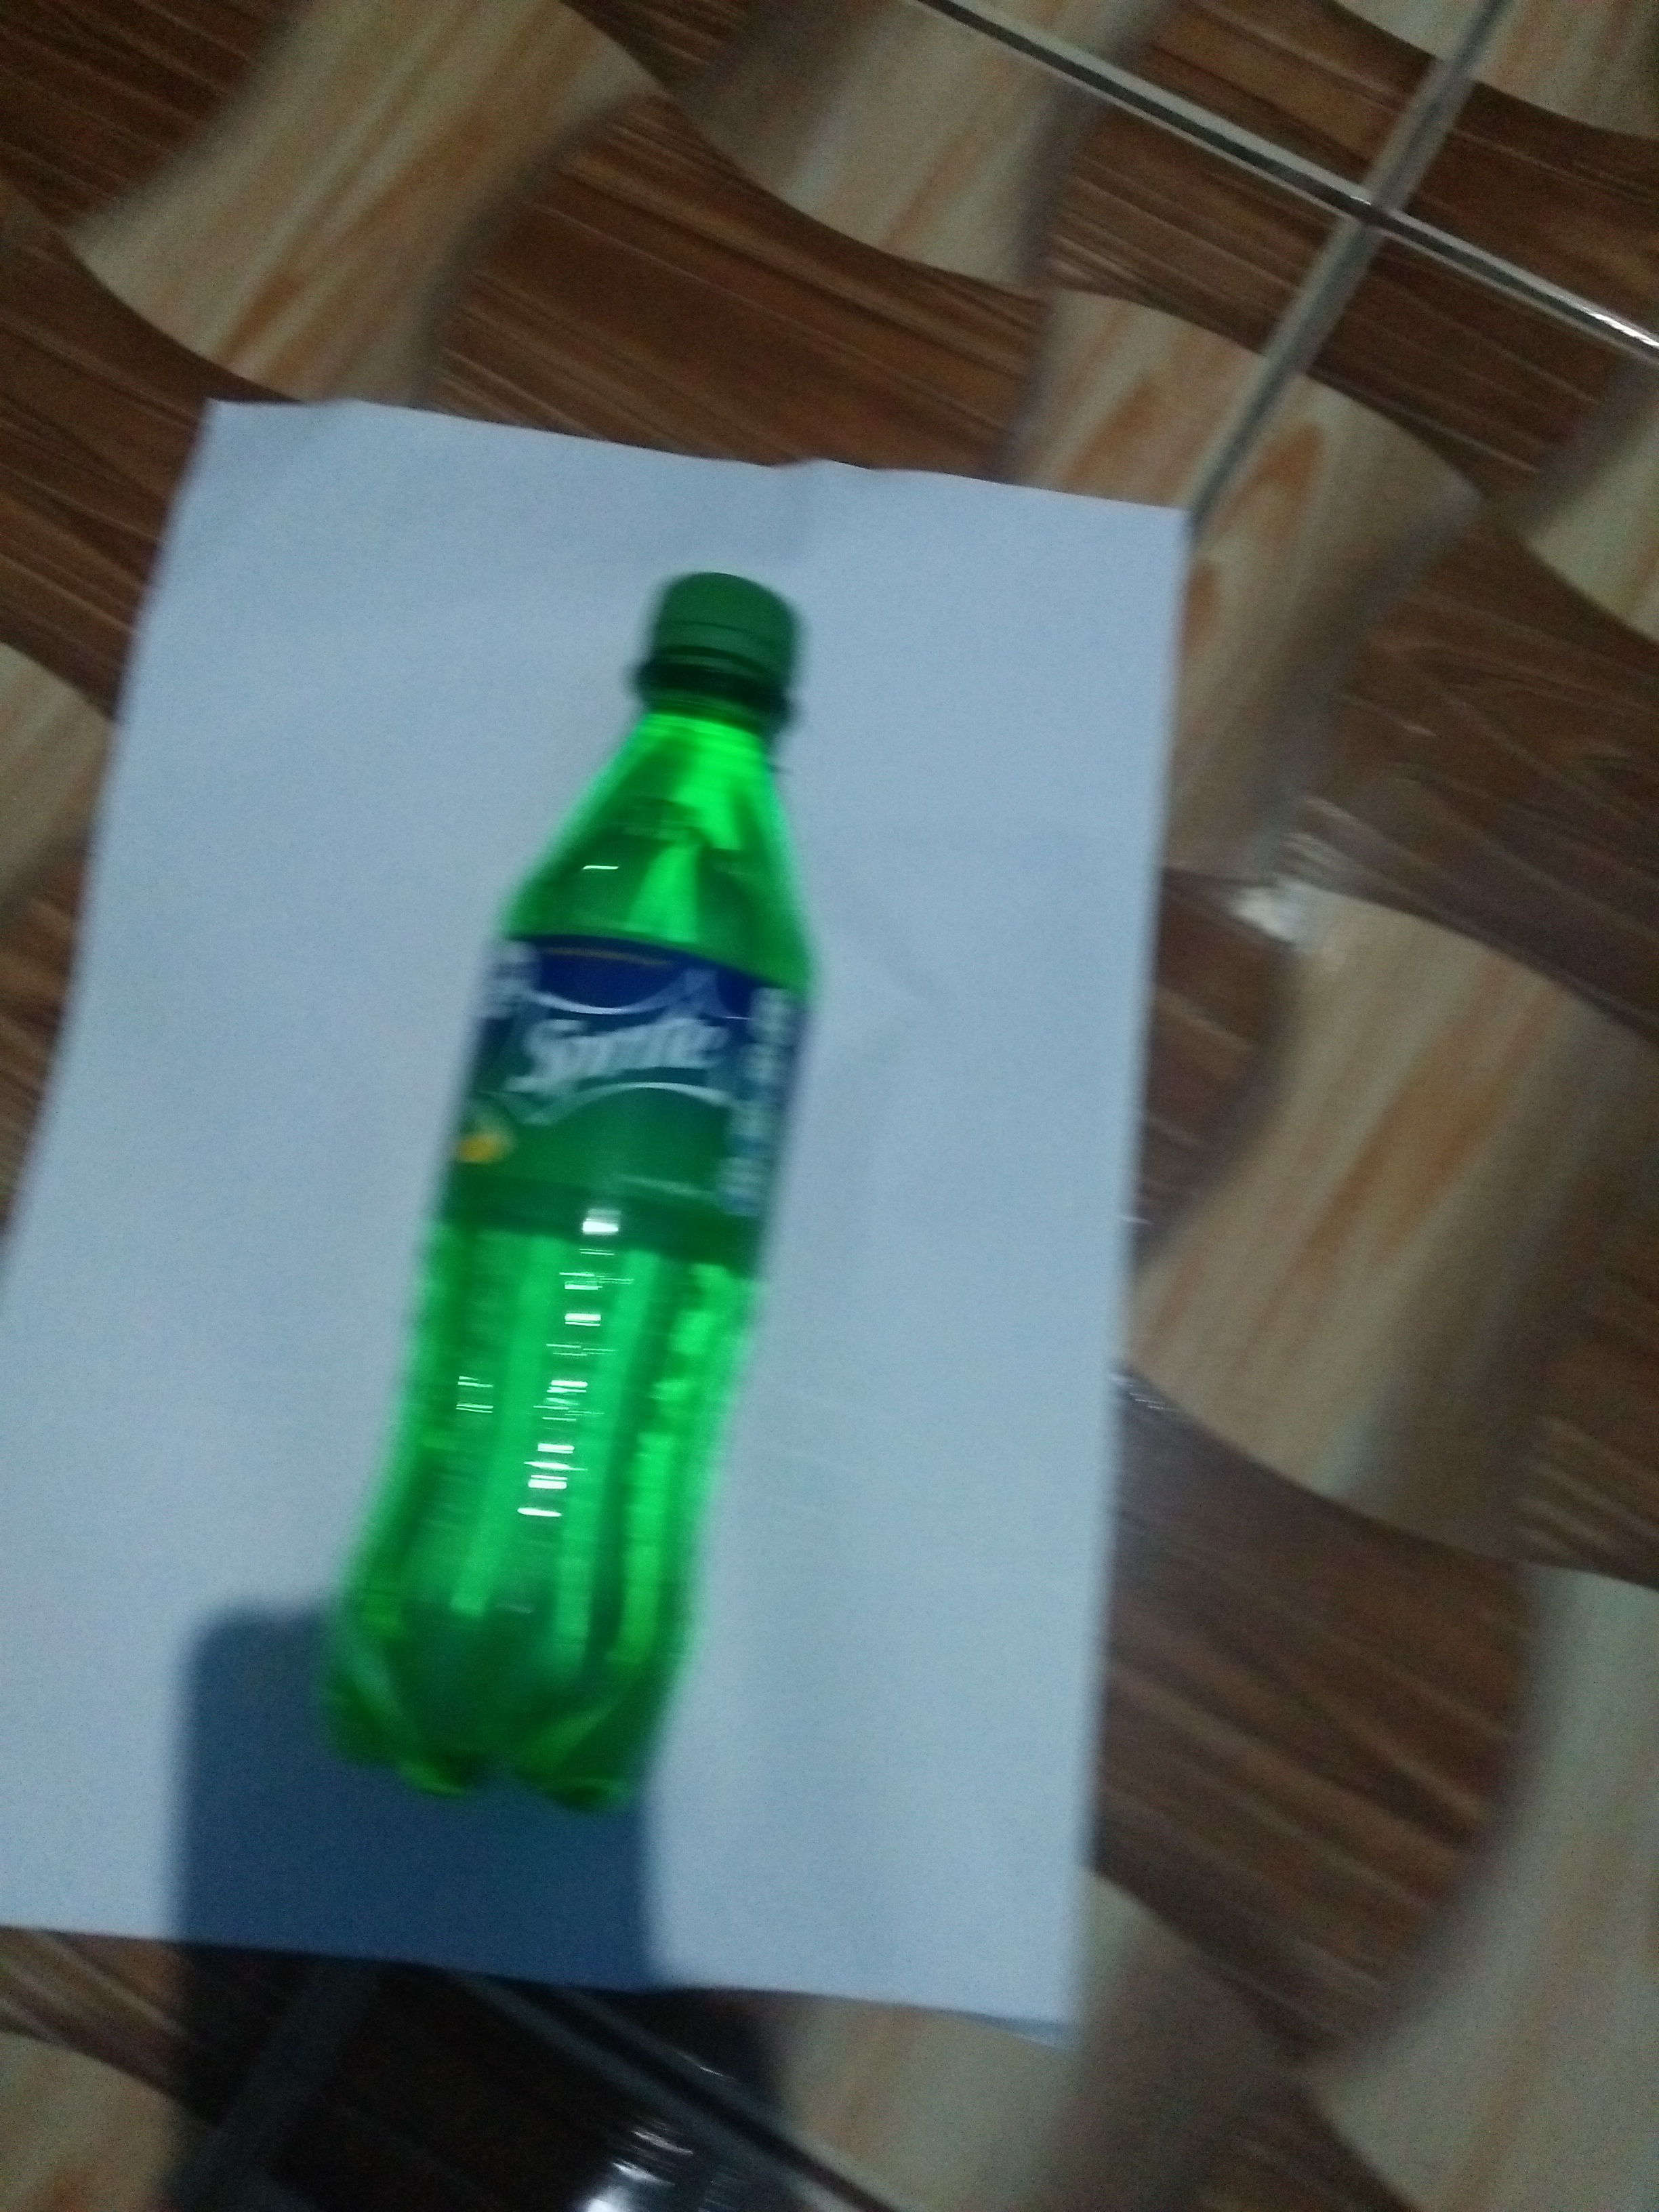Sprite: (328, 554, 843, 1818)
